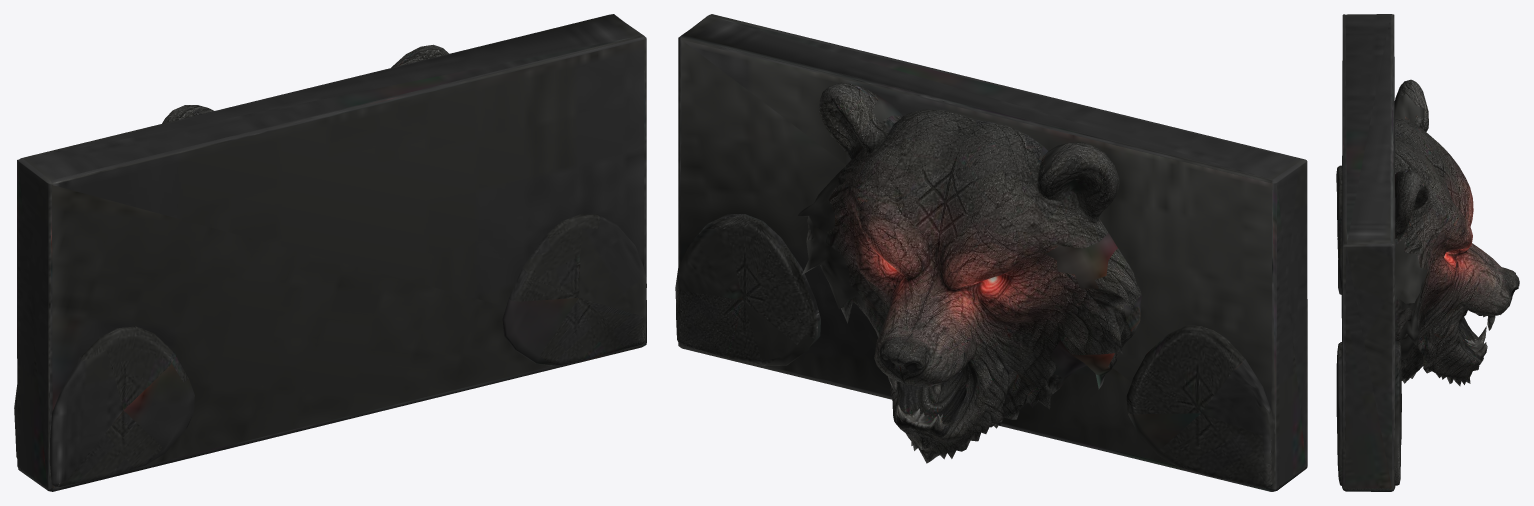
Rendered from short_bear_wall.glb.
The picture shows the model from 3 angles, left to right: view 1: azimuth 30°, elevation 25°; view 2: azimuth 150°, elevation 25°; view 3: azimuth 270°, elevation 25°; orthographic projection. The views are drawn at different scales.
Parts seen in each view (by area): view 1: ShortBearWallSlider; view 2: ShortBearWallSlider; view 3: ShortBearWallSlider.
Boxes of the visible parts, x1,y1,x2,y2 form: ShortBearWallSlider: (14,14,646,491); ShortBearWallSlider: (675,14,1307,491); ShortBearWallSlider: (1336,14,1519,491).
Bounding box in the file's own units: 3.49 × 1.8 × 1.17.
1 material, 1 textured.
